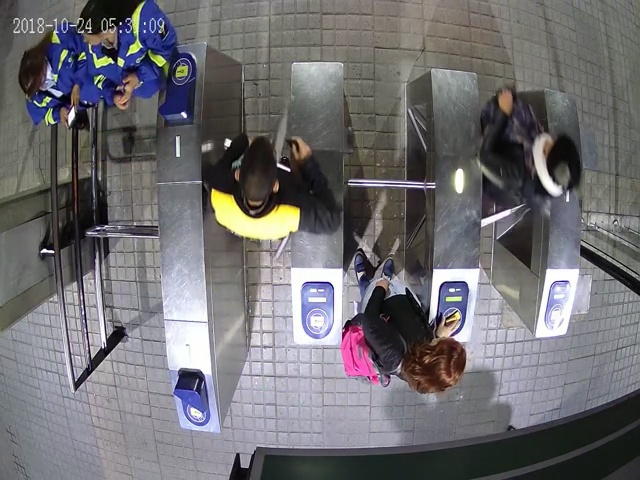Chaleco_azul: (78, 1, 177, 107), (19, 22, 89, 128)
